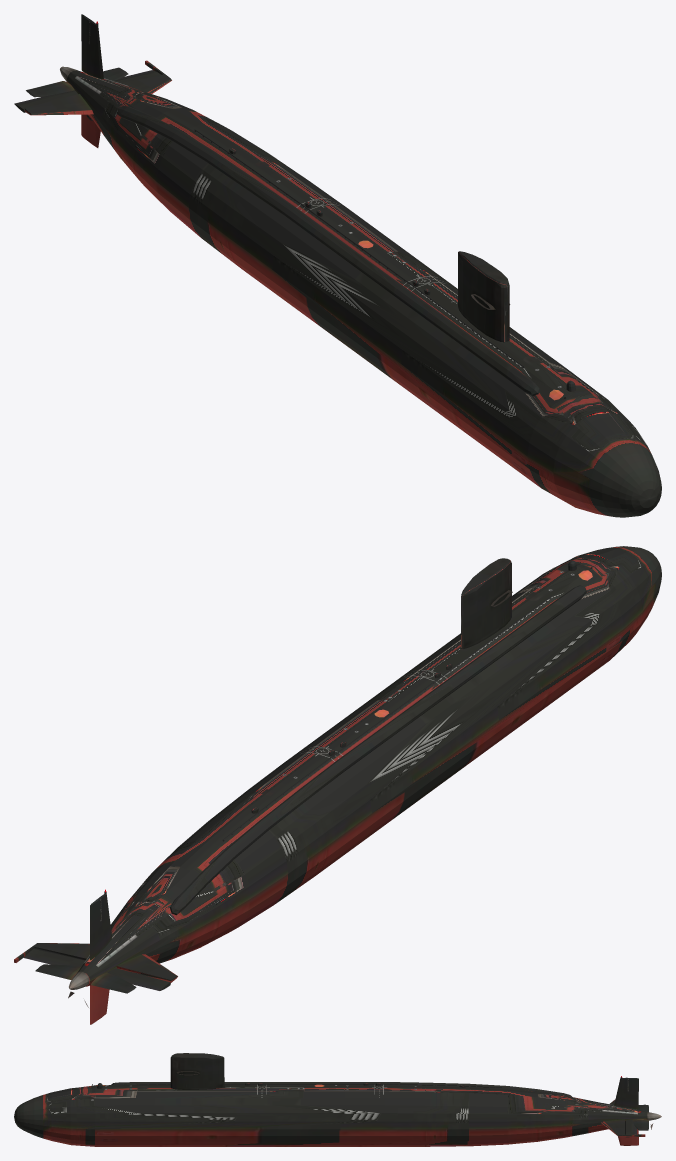
The picture shows the model from 3 angles, top to bottom: view 1: azimuth 30°, elevation 25°; view 2: azimuth 150°, elevation 25°; view 3: azimuth 270°, elevation 25°; orthographic projection. The views are drawn at different scales.
Parts seen in each view (by area): view 1: Object_2; view 2: Object_2; view 3: Object_2.
Part boxes in pixels (box(x1,y1,x2,y2)): Object_2: box(14, 14, 661, 517); Object_2: box(14, 546, 661, 1024); Object_2: box(14, 1053, 661, 1146).
Bounding box in the file's own units: 0.2189 × 0.2455 × 1.58.
Materials: 1 (1 with a texture image).
